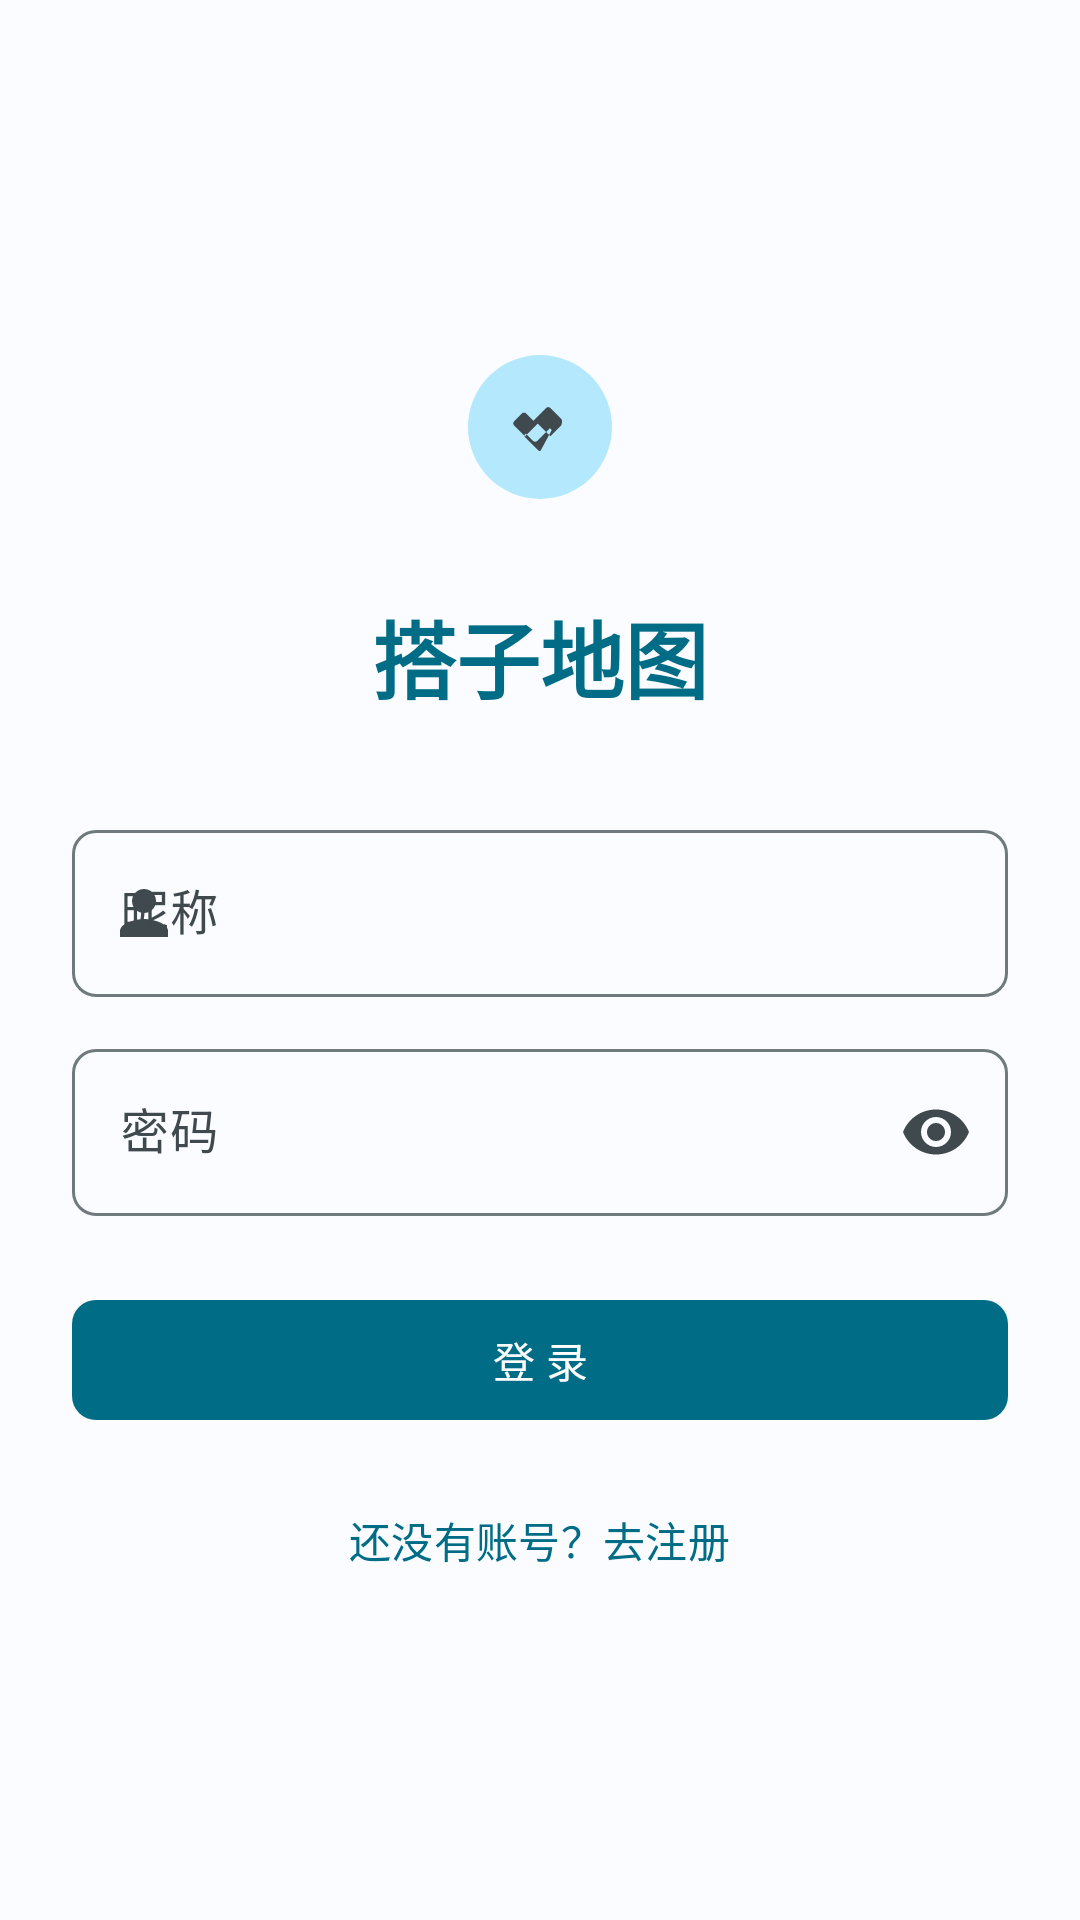

Where icons sit on this 1080px x 1920px app screen, as (x1, y1, x2, y2):
handshake: (468, 355, 612, 499)
